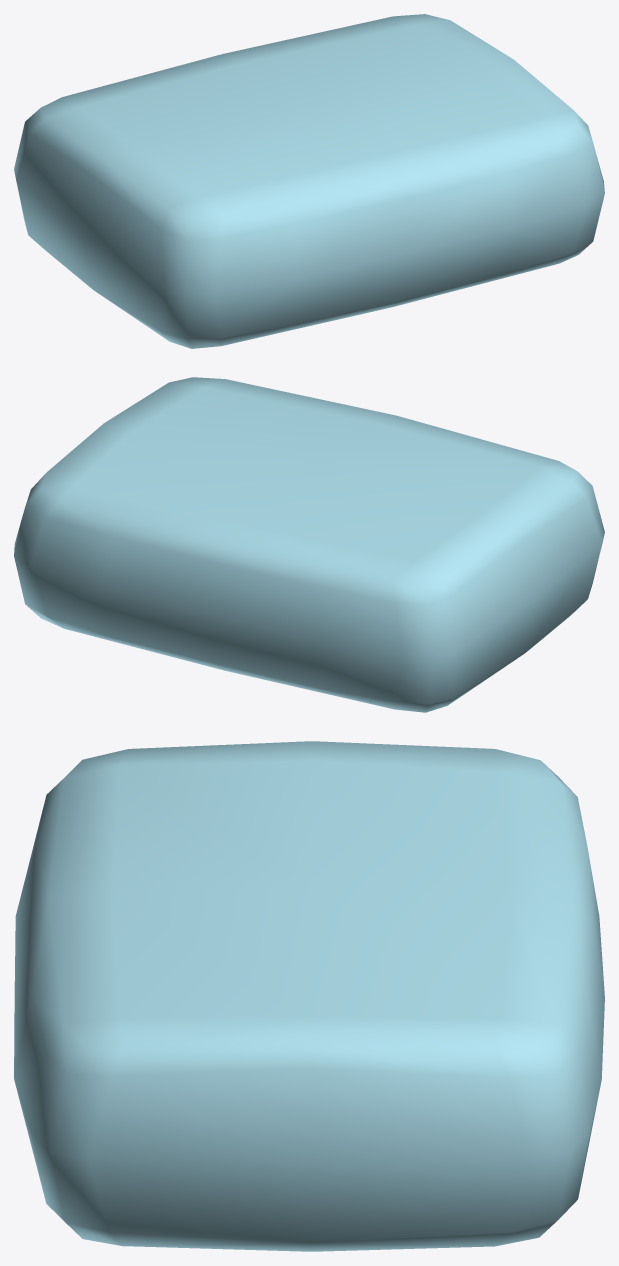
The model's file is cocaine_pack.fbx.
3 renders of one model, top to bottom at view 1: azimuth 30°, elevation 25°; view 2: azimuth 150°, elevation 25°; view 3: azimuth 270°, elevation 25°, orthographic. The views are drawn at different scales.
Visible parts, largest first — view 1: cocaine_pack; view 2: cocaine_pack; view 3: cocaine_pack.
Boxes of the visible parts, x1,y1,x2,y2 form: cocaine_pack: (14, 14, 604, 348); cocaine_pack: (14, 377, 604, 712); cocaine_pack: (14, 741, 604, 1251).
Size of the model in its own units: 2006 by 618 by 1520.
